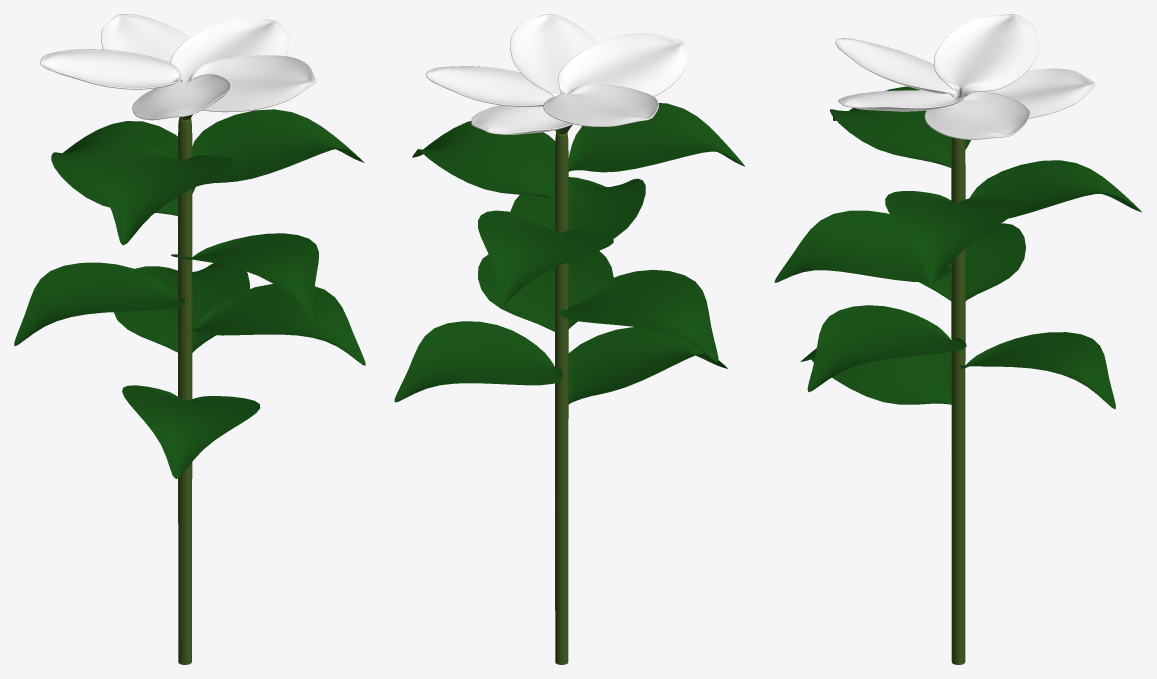
Rendered from flor_1.glb.
The picture shows the model from 3 angles, left to right: view 1: azimuth 30°, elevation 25°; view 2: azimuth 150°, elevation 25°; view 3: azimuth 270°, elevation 25°; orthographic projection. The views are drawn at different scales.
Visible parts, largest first — view 1: flor, Leaf.003, Leaf.005, Leaf.002, Leaf.004, Leaf.001; view 2: flor, Leaf.004, Leaf.003, Leaf.005, Leaf.002, Leaf.001; view 3: flor, Leaf.005, Leaf.002, Leaf.004, Leaf.001, Leaf.003.
Boxes of the visible parts, x1,y1,x2,y2 form: flor: (14, 109, 365, 664); Leaf.003: (189, 55, 316, 112); Leaf.005: (40, 49, 182, 89); Leaf.002: (170, 18, 289, 82); Leaf.004: (132, 73, 230, 120); Leaf.001: (101, 14, 189, 62); flor: (394, 103, 744, 664); Leaf.004: (558, 32, 687, 96); Leaf.003: (510, 14, 597, 96); Leaf.005: (543, 83, 658, 126); Leaf.002: (425, 66, 553, 106); Leaf.001: (471, 105, 572, 134); flor: (774, 86, 1141, 664); Leaf.005: (934, 14, 1039, 97); Leaf.002: (924, 91, 1030, 139); Leaf.004: (835, 38, 957, 97); Leaf.001: (968, 68, 1095, 118); Leaf.003: (838, 90, 964, 111).
Bounding box in the file's own units: 0.0493 × 0.0867 × 0.0485.
